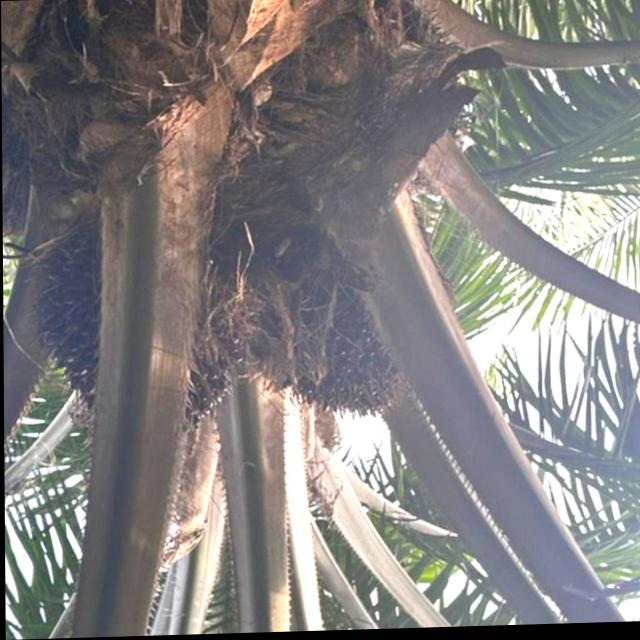unripe: (29, 218, 231, 444), (250, 235, 422, 425)
